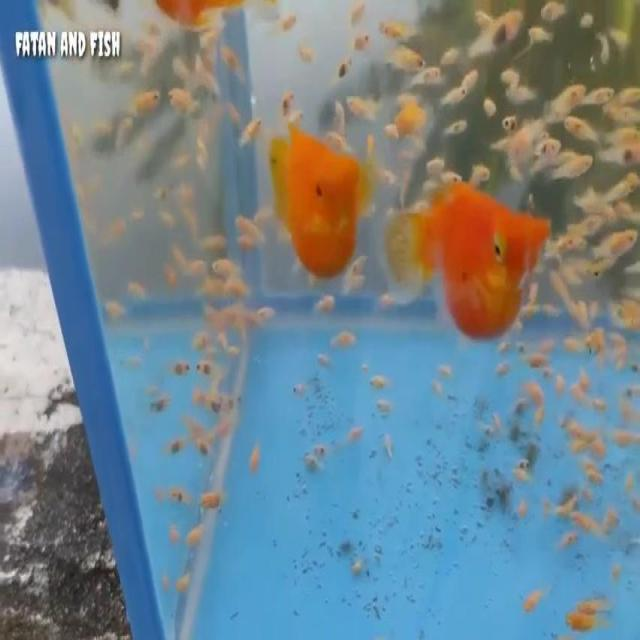PlatyFish: (381, 166, 558, 354), (262, 110, 366, 289)
